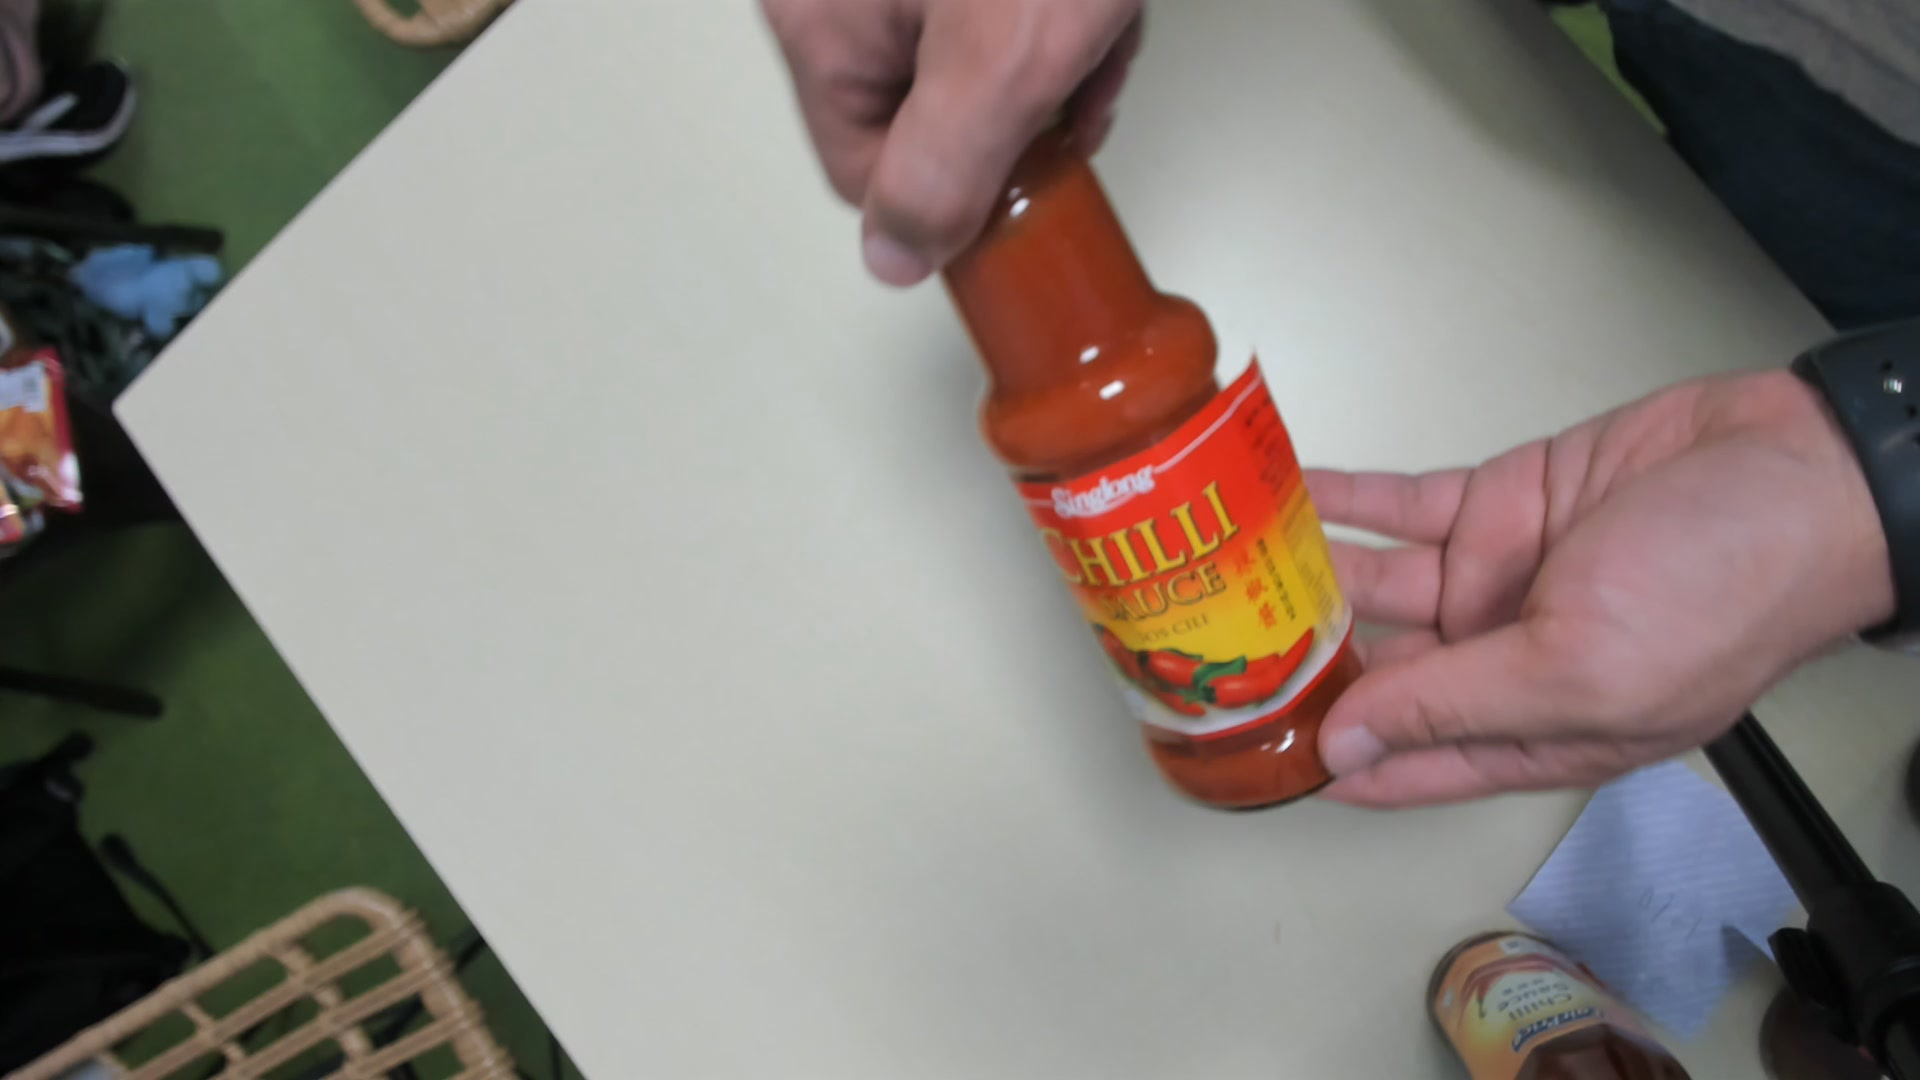KetchupChillSauce_200-299g_Halal_NonHealthy: (923, 109, 1375, 819)
